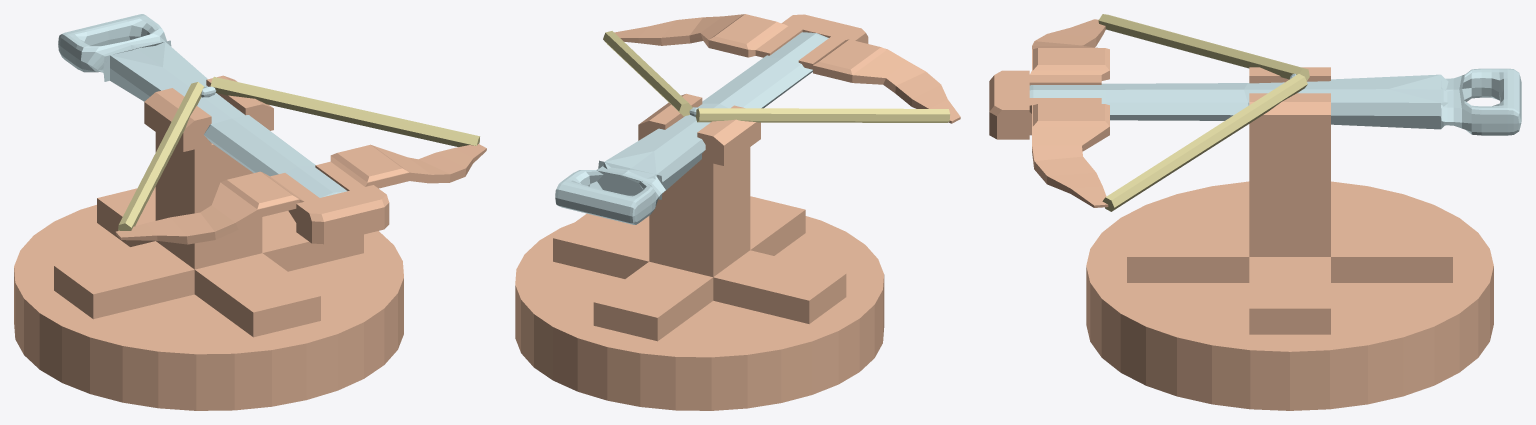
Rendered from upgrade_ballista.fbx.
3 views of the same model, side by side, from view 1: azimuth 30°, elevation 25°; view 2: azimuth 150°, elevation 25°; view 3: azimuth 270°, elevation 25° (orthographic). The views are drawn at different scales.
Parts seen in each view (by area): view 1: Base, Bow, Staff, String; view 2: Base, Staff, Bow, String; view 3: Base, Staff, Bow, String.
Boxes of the visible parts, box(x1,y1,x2,y2) form: Base: box(14, 75, 403, 410); Bow: box(115, 144, 486, 244); Staff: box(58, 14, 347, 197); String: box(118, 76, 479, 230); Base: box(515, 93, 884, 410); Staff: box(555, 32, 828, 224); Bow: box(614, 14, 960, 123); String: box(603, 31, 950, 122); Base: box(1086, 67, 1493, 410); Staff: box(1029, 68, 1521, 135); Bow: box(989, 19, 1109, 207); String: box(1098, 14, 1309, 211).
Bounding box in the file's own units: 54.45 × 34.52 × 65.32.
